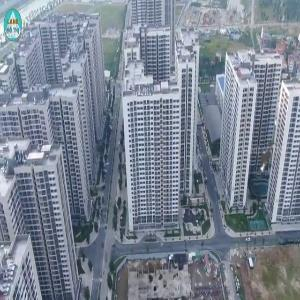drone: (229, 124, 299, 194)
